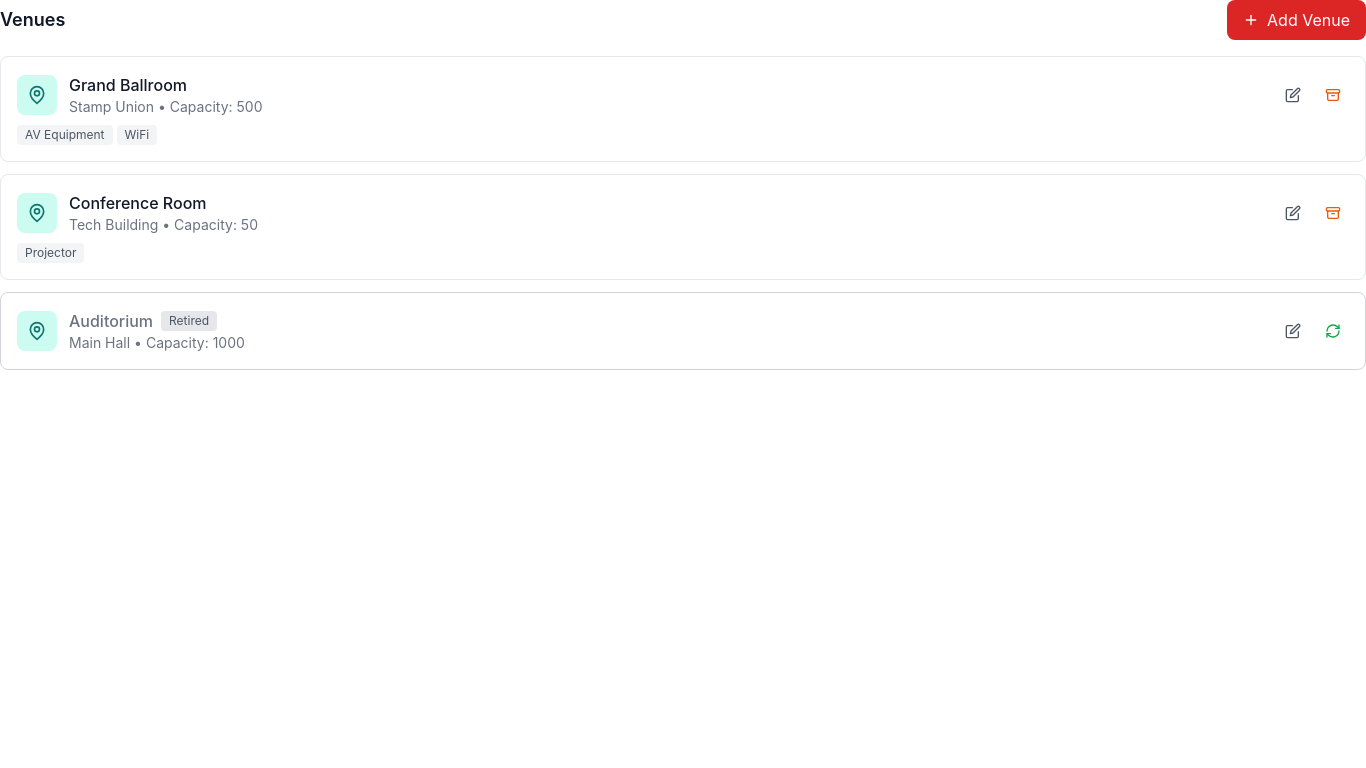
CategoryVenueManager Component - Complete Coverage › Edit Form - Venues › opens edit form for venue
This screenshot has width=1366, height=768.
Click the button titled "Edit" in the row of "500" at (1293, 95), box [1277, 79, 1309, 111]
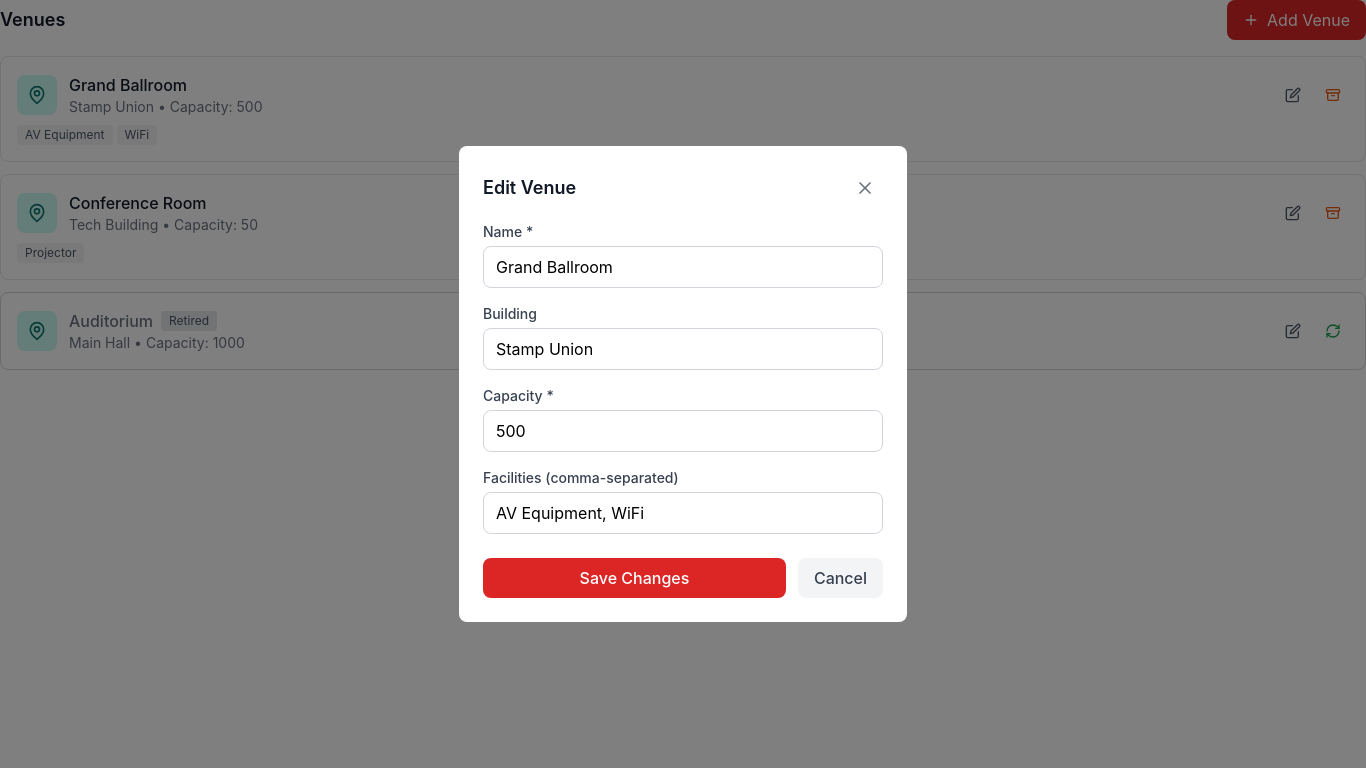
Now the heading "Edit Venue" is shown, box [483, 174, 576, 202]
Now the field showing "Grand Ballroom" below "Name *" is shown, box [483, 246, 883, 288]
Now the 2nd field showing "Stamp Union" is shown, box [483, 328, 883, 370]
